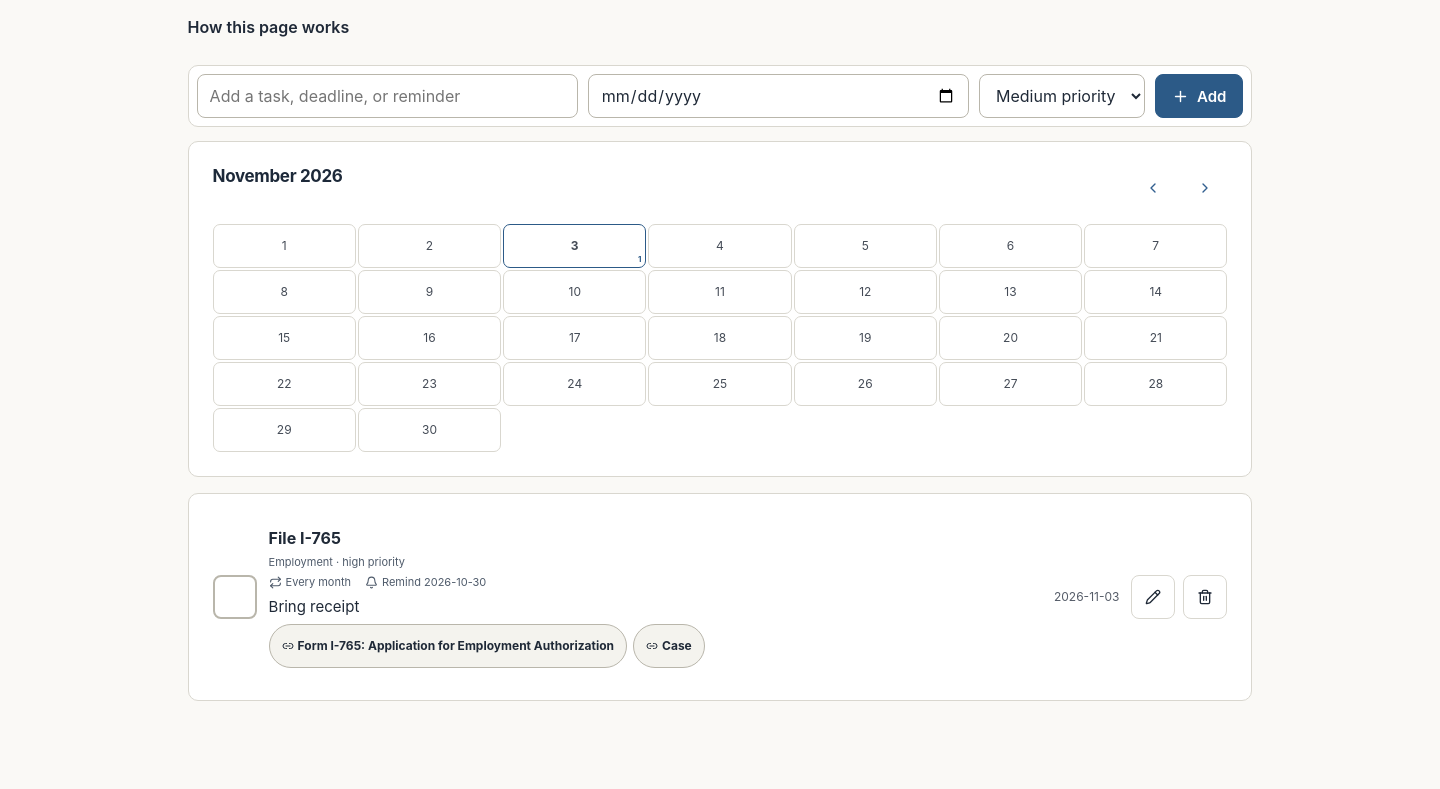
it: editing a task › keeps what was typed and explains the problem when saving fails
(page scrolled)
Click the button named "Edit File I-765": (1153, 597) x1=1131 y1=575 x2=1175 y2=619
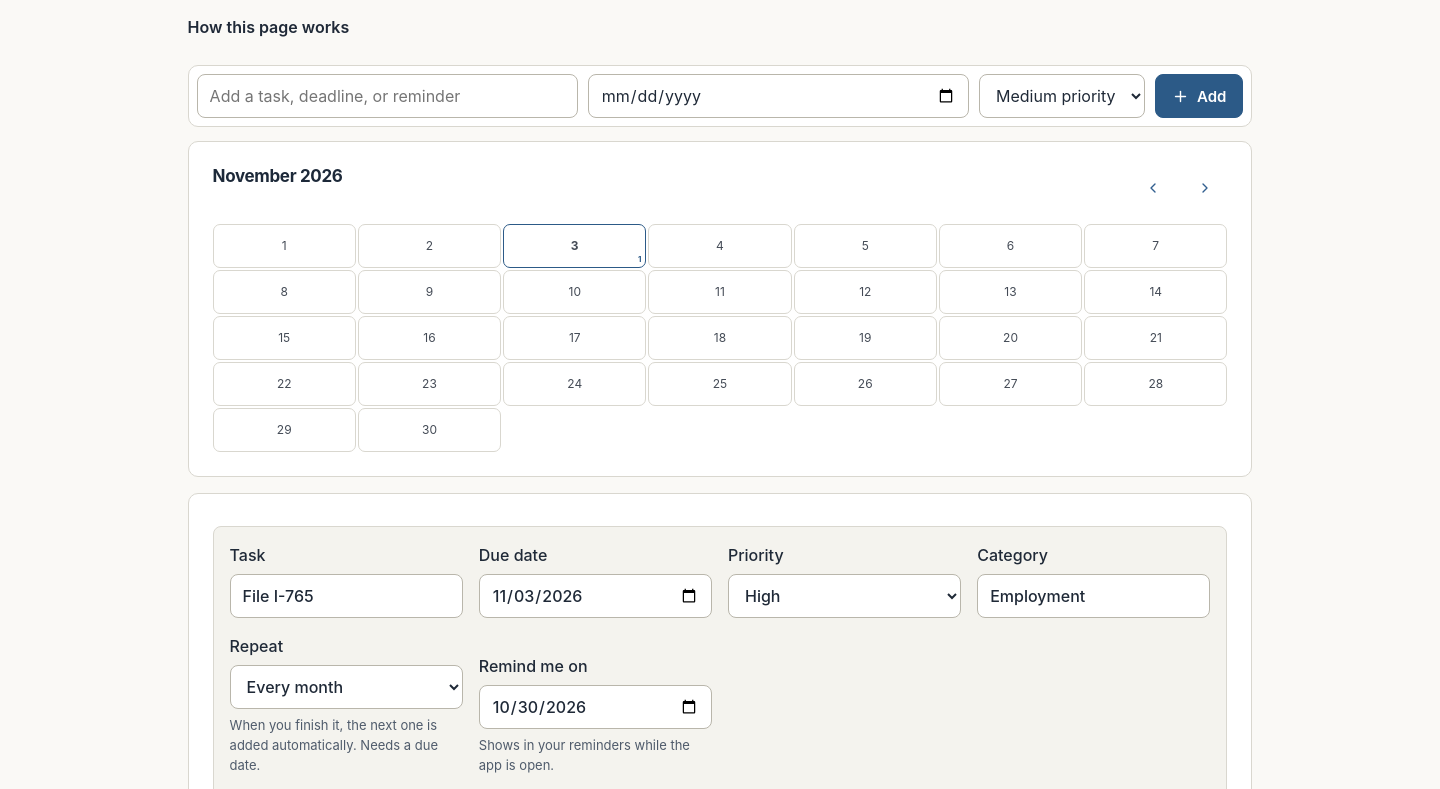
Clear the date field labelled "Due date": (595, 596) x1=479 y1=574 x2=712 y2=618
(page scrolled)
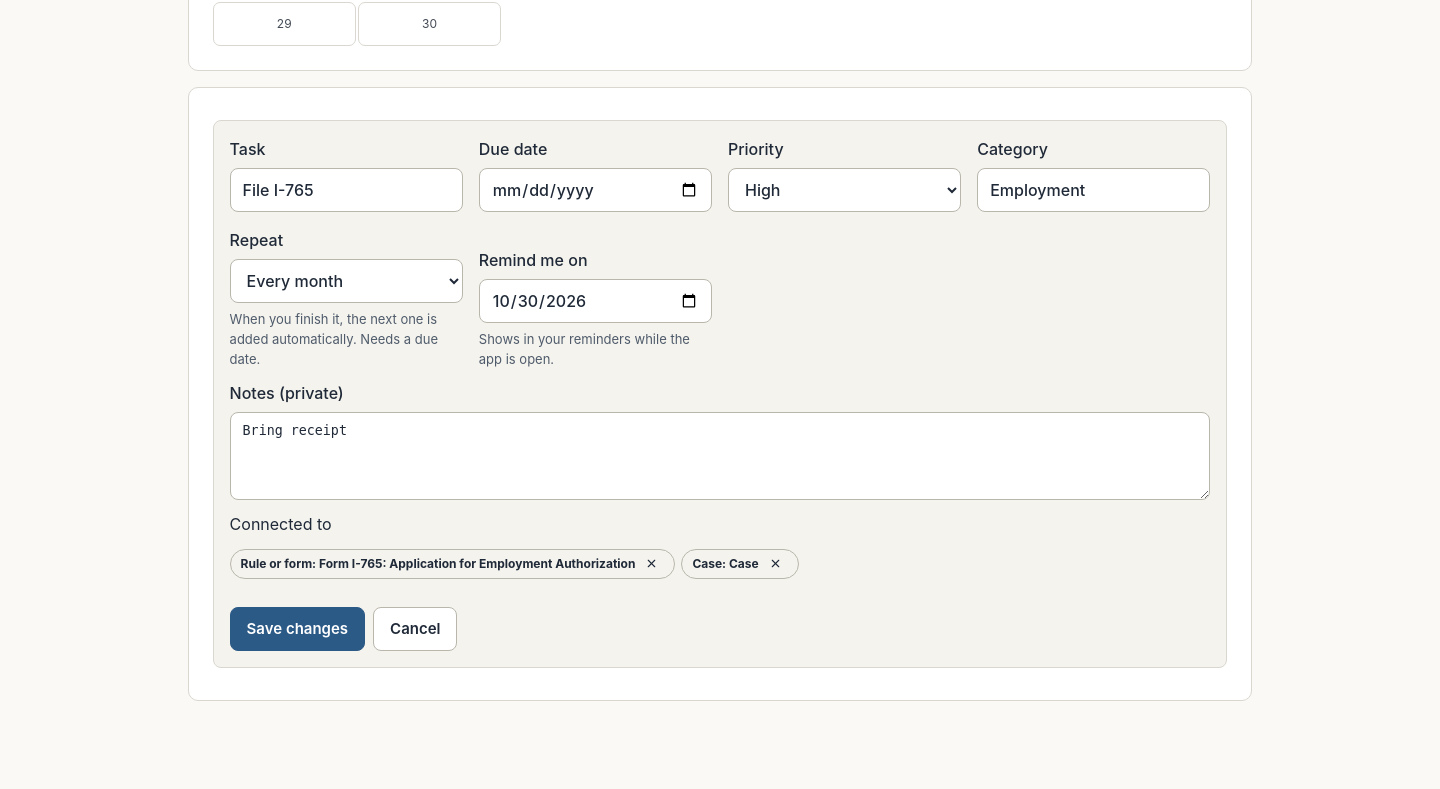
Click the button "Save changes": (297, 629) x1=230 y1=607 x2=365 y2=651
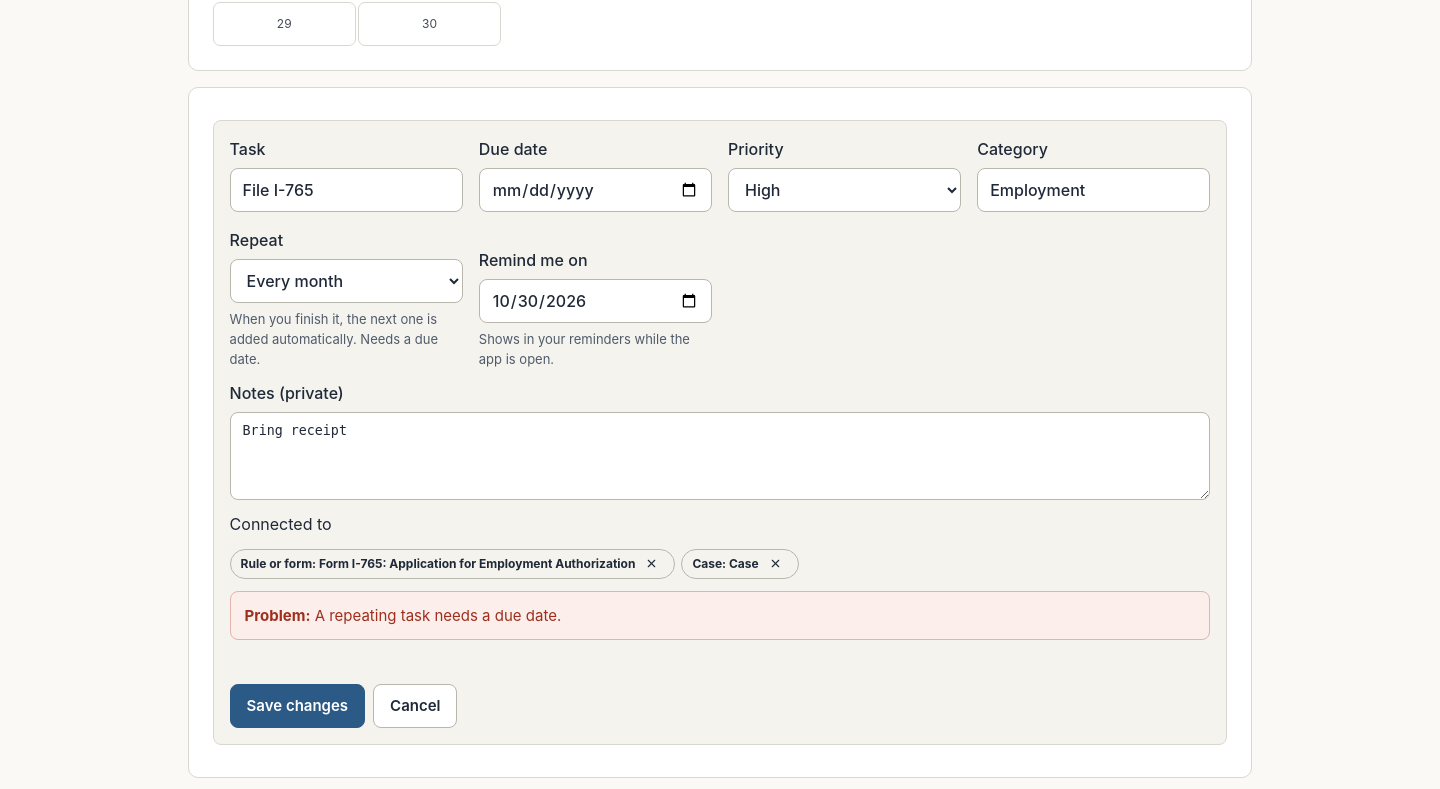
Check: the field labelled "Task" holds "File I-765", box x1=230 y1=168 x2=463 y2=212
Check: the button "Save changes" is enabled, box x1=230 y1=684 x2=365 y2=728
Check: the message shows "needs a due date", box x1=315 y1=606 x2=561 y2=625
